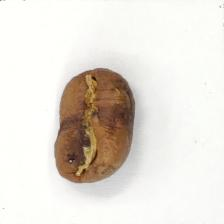NG: (55, 112, 88, 169), (94, 97, 134, 136)
